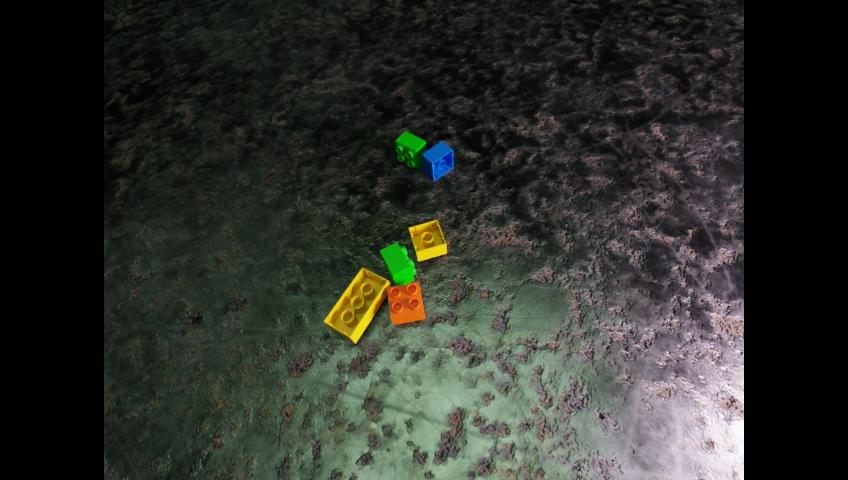2x2_blue: (423, 142, 454, 182)
2x2_green: (380, 242, 415, 285), (395, 131, 425, 168)
2x2_orange: (387, 281, 424, 324)
2x2_yellow: (408, 219, 445, 260)
4x2_yellow: (323, 267, 390, 342)
